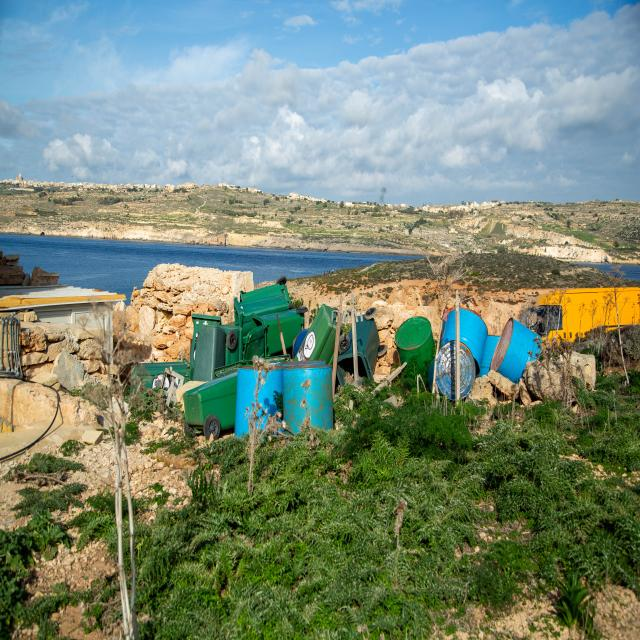Other litter: (281, 359, 334, 436), (234, 363, 284, 439), (489, 317, 544, 382), (440, 307, 489, 371), (429, 340, 477, 402), (394, 316, 435, 375), (343, 293, 364, 383), (331, 295, 347, 390), (477, 335, 502, 376), (161, 367, 185, 406), (292, 328, 309, 358), (276, 312, 287, 356), (349, 377, 363, 389)
Other plastic: (182, 365, 239, 442), (334, 307, 387, 388), (242, 306, 308, 360), (292, 304, 351, 364), (234, 294, 295, 337), (129, 358, 195, 394), (193, 324, 226, 381), (191, 314, 222, 367), (239, 274, 292, 304), (217, 324, 243, 365)
